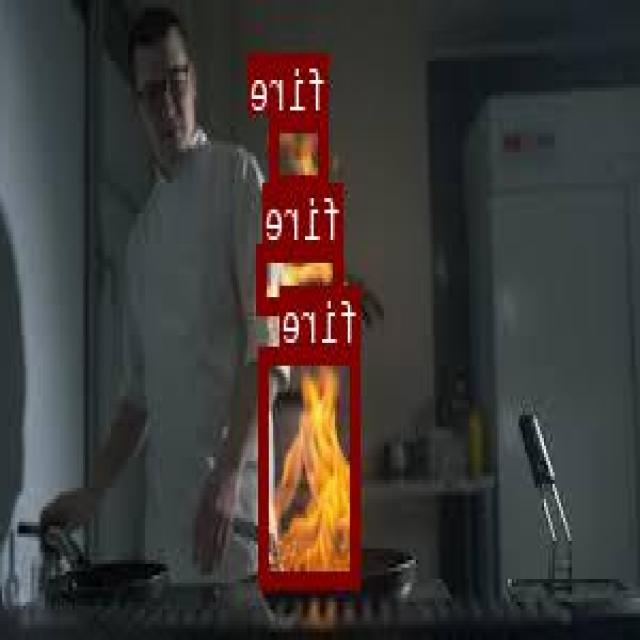fire: (262, 345, 361, 584), (260, 242, 344, 311), (272, 111, 330, 188)
